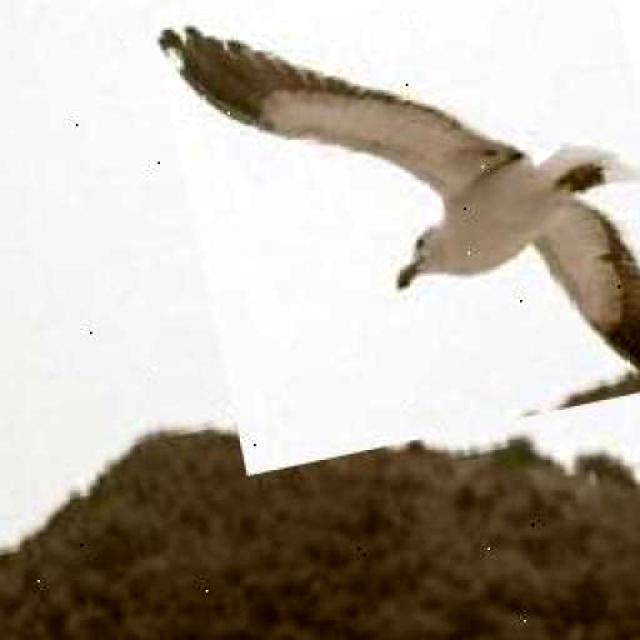airplane: (152, 0, 640, 474)
